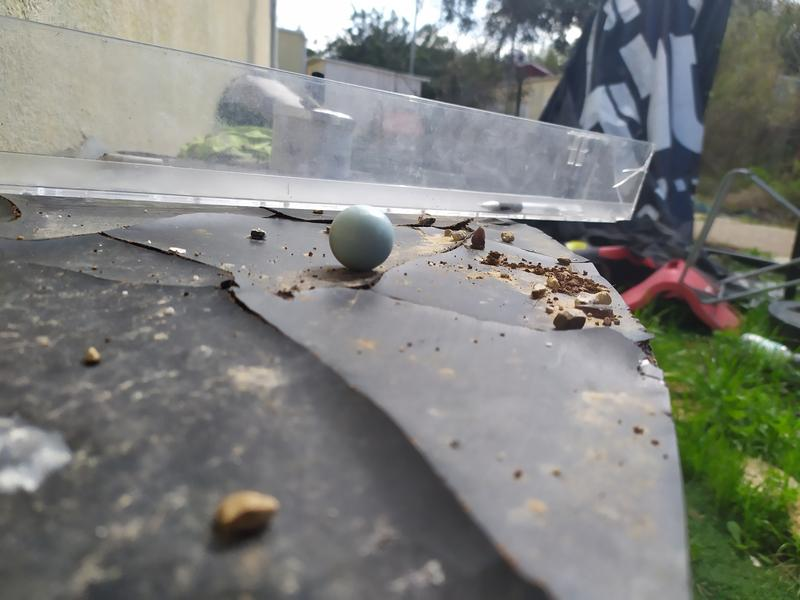Warning: (327, 203, 397, 274)
